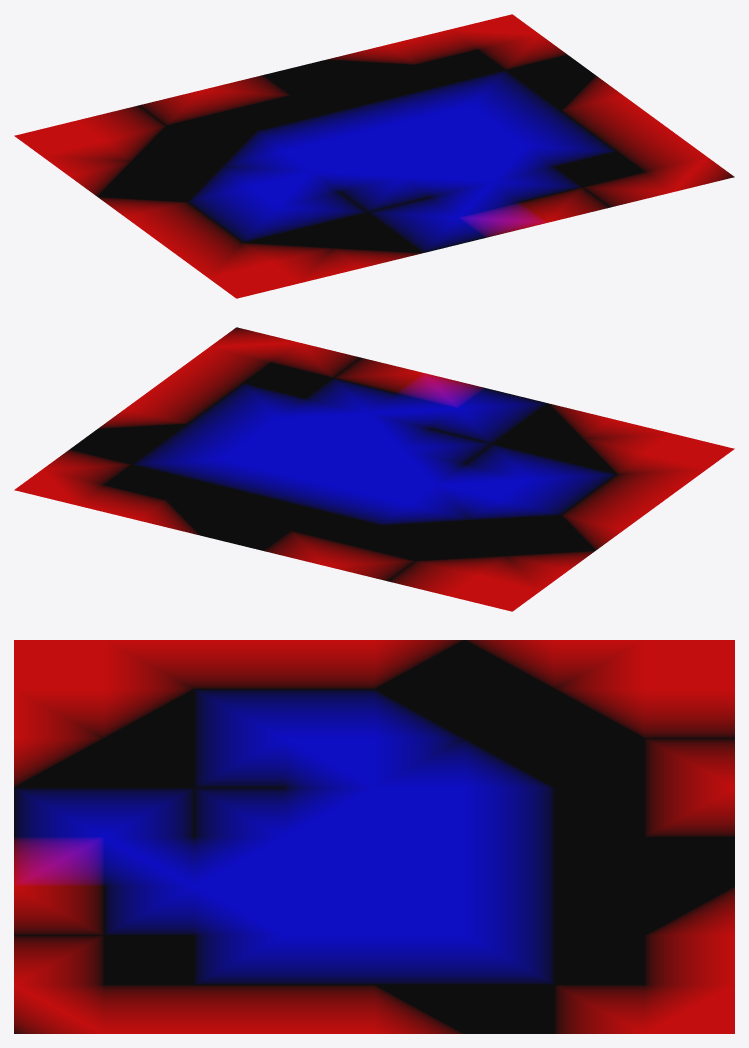
File: V_Ground_diorama.FBX
3 views of the same model, one above another, from view 1: azimuth 30°, elevation 25°; view 2: azimuth 150°, elevation 25°; view 3: azimuth 270°, elevation 25° (orthographic). The views are drawn at different scales.
Visible parts, largest first — view 1: Plane022; view 2: Plane022; view 3: Plane022.
Part boxes in pixels (<box>): Plane022: <box>14,14,734,298</box>; Plane022: <box>14,327,734,611</box>; Plane022: <box>14,640,734,1033</box>.
Bounding box in the file's own units: 2511 × 1.19e-13 × 1942.
